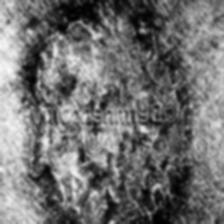Non-Cancerous Skin Condition: (22, 0, 191, 224)
